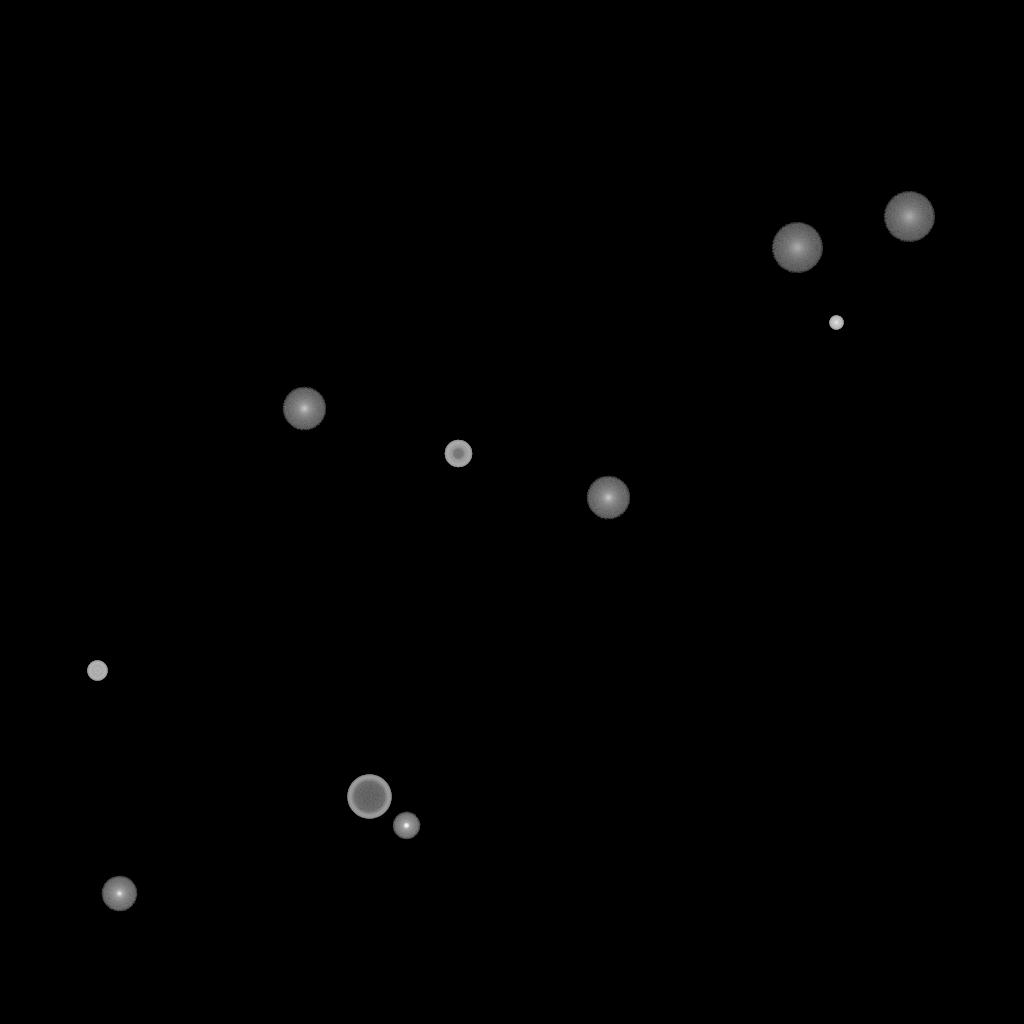depth:-10: (392, 812, 420, 840)
depth:-30: (829, 316, 843, 330)
depth:-40: (87, 661, 107, 681)
depth:-50: (444, 440, 472, 468)
depth:-70: (347, 775, 391, 819)
depth:0: (101, 876, 137, 912)
depth:10: (282, 387, 326, 431), (586, 476, 630, 520)
depth:20: (771, 223, 823, 273), (883, 192, 935, 242)
